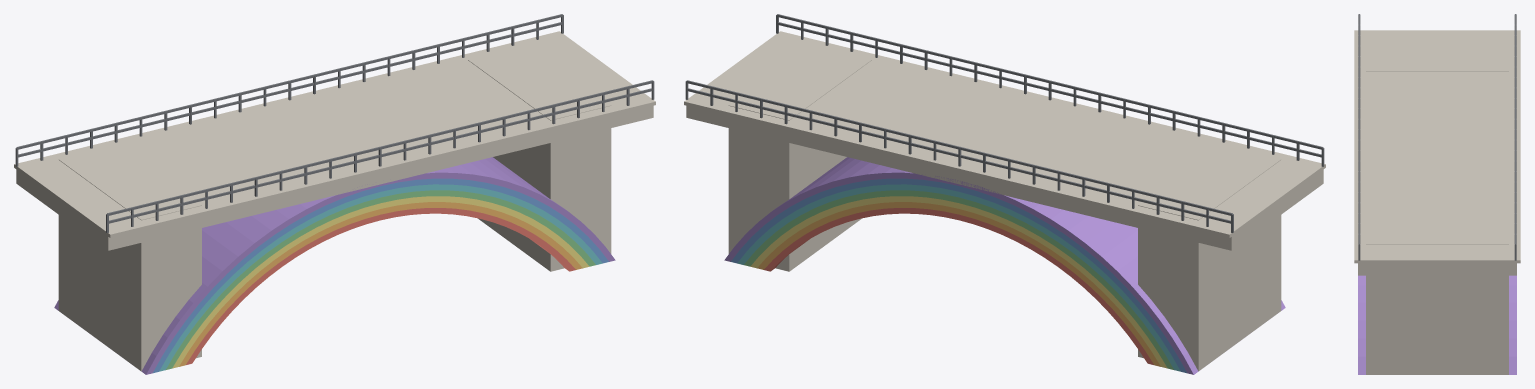
The model's file is LANDMARK_RAINBOW_BRIDGE.glb.
The picture shows the model from 3 angles, left to right: view 1: azimuth 30°, elevation 25°; view 2: azimuth 150°, elevation 25°; view 3: azimuth 270°, elevation 25°; orthographic projection. The views are drawn at different scales.
Parts seen in each view (by area): view 1: RAINBOW_BRIDGE_Deck, RAINBOW_BRIDGE_Abutments, RAINBOW_BRIDGE_Rib_6, Bridge_Rail_Bar, RAINBOW_BRIDGE_Rib_5, RAINBOW_BRIDGE_Rib_4, RAINBOW_BRIDGE_Rib_3, RAINBOW_BRIDGE_Rib_2, RAINBOW_BRIDGE_Rib_1, Bridge_Rail, RAINBOW_BRIDGE_Rib_0; view 2: RAINBOW_BRIDGE_Deck, RAINBOW_BRIDGE_Abutments, RAINBOW_BRIDGE_Rib_6, Bridge_Rail_Bar, RAINBOW_BRIDGE_Rib_5, RAINBOW_BRIDGE_Rib_4, RAINBOW_BRIDGE_Rib_3, RAINBOW_BRIDGE_Rib_2, RAINBOW_BRIDGE_Rib_1, Bridge_Rail, RAINBOW_BRIDGE_Rib_0; view 3: RAINBOW_BRIDGE_Deck, RAINBOW_BRIDGE_Abutments, RAINBOW_BRIDGE_Rib_6, Bridge_Rail, Bridge_Rail_Bar.
Boxes of the visible parts, x1,y1,x2,y2 form: RAINBOW_BRIDGE_Deck: (14,31,655,250); RAINBOW_BRIDGE_Abutments: (58,45,611,371); RAINBOW_BRIDGE_Rib_6: (54,157,615,374); Bridge_Rail_Bar: (16,14,653,223); RAINBOW_BRIDGE_Rib_5: (153,178,608,373); RAINBOW_BRIDGE_Rib_4: (159,184,602,371); RAINBOW_BRIDGE_Rib_3: (166,190,595,369); RAINBOW_BRIDGE_Rib_2: (172,196,589,368); RAINBOW_BRIDGE_Rib_1: (179,202,582,366); Bridge_Rail: (15,15,654,232); RAINBOW_BRIDGE_Rib_0: (186,208,575,364); RAINBOW_BRIDGE_Deck: (684,31,1325,250); RAINBOW_BRIDGE_Abutments: (728,45,1281,371); RAINBOW_BRIDGE_Rib_6: (724,157,1285,374); Bridge_Rail_Bar: (686,14,1323,223); RAINBOW_BRIDGE_Rib_5: (731,178,1186,373); RAINBOW_BRIDGE_Rib_4: (737,184,1180,371); RAINBOW_BRIDGE_Rib_3: (744,190,1173,369); RAINBOW_BRIDGE_Rib_2: (750,196,1167,368); RAINBOW_BRIDGE_Rib_1: (757,202,1160,366); Bridge_Rail: (685,15,1324,232); RAINBOW_BRIDGE_Rib_0: (764,208,1153,364); RAINBOW_BRIDGE_Deck: (1354,30,1520,275); RAINBOW_BRIDGE_Abutments: (1366,46,1508,374); RAINBOW_BRIDGE_Rib_6: (1358,275,1516,374); Bridge_Rail: (1358,14,1516,260); Bridge_Rail_Bar: (1358,14,1516,244).
Bounding box in the file's own units: 36.12 × 10.73 × 11.
